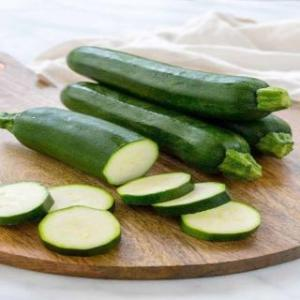zucchini: (59, 57, 291, 139)
